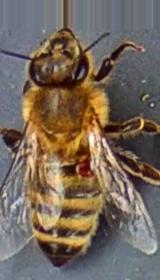varroa_mite: (66, 158, 102, 180)
